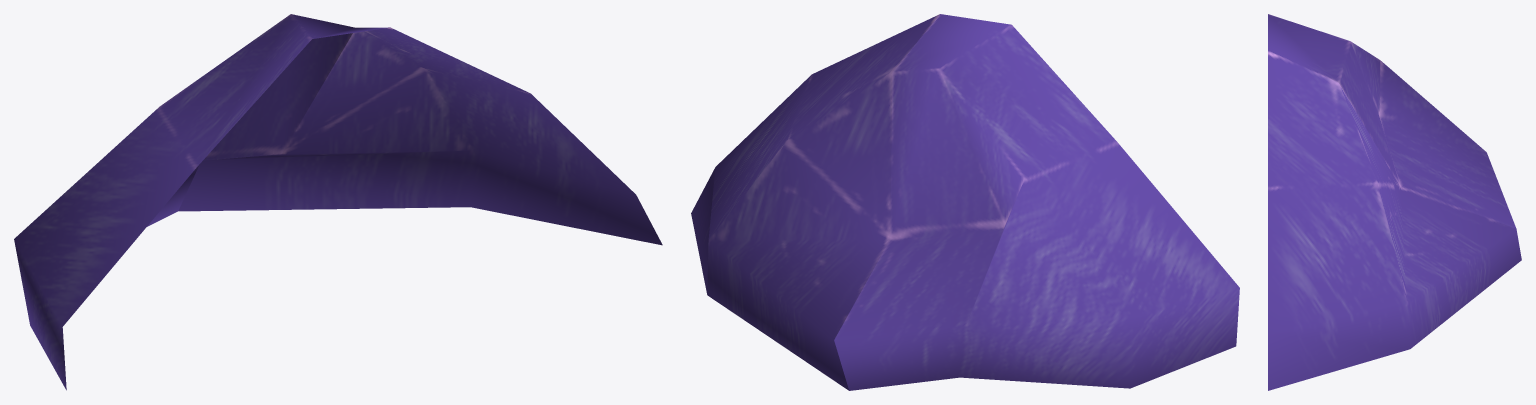
File: Roca_01.fbx
3 renders of one model, left to right at view 1: azimuth 30°, elevation 25°; view 2: azimuth 150°, elevation 25°; view 3: azimuth 270°, elevation 25°, orthographic. The views are drawn at different scales.
Parts seen in each view (by area): view 1: polySurface4; view 2: polySurface4; view 3: polySurface4.
Part boxes in pixels (<box>): polySurface4: <box>14,14,662,390</box>; polySurface4: <box>691,14,1239,390</box>; polySurface4: <box>1268,14,1521,390</box>.
Size of the model in its own units: 2.58 by 1.2 by 1.16.
